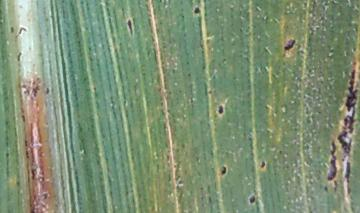tarspot: (338, 70, 360, 154), (327, 142, 337, 183), (125, 18, 135, 38), (344, 161, 352, 184), (283, 39, 296, 52), (217, 104, 225, 117), (220, 163, 227, 176), (193, 6, 202, 15), (259, 161, 267, 170), (247, 195, 254, 204)
